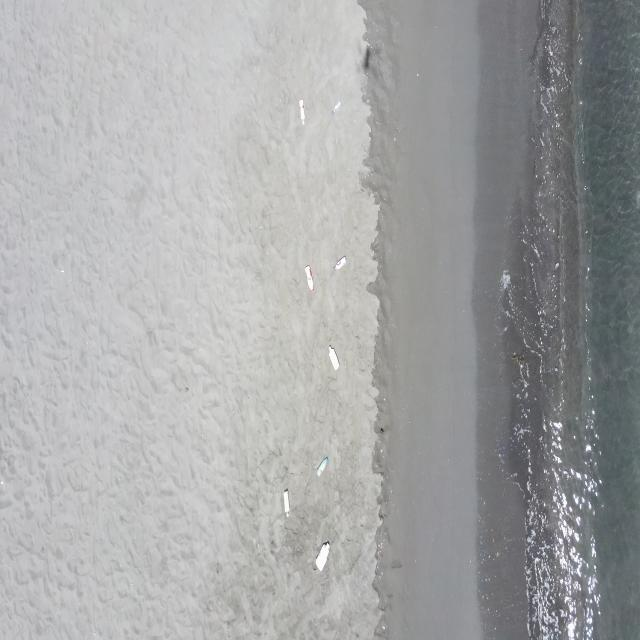Garbage: (315, 540, 328, 569), (328, 346, 339, 368), (316, 456, 327, 475), (363, 45, 371, 70), (304, 264, 312, 289), (333, 256, 346, 268), (283, 488, 287, 515), (332, 100, 340, 111), (300, 99, 303, 123)
